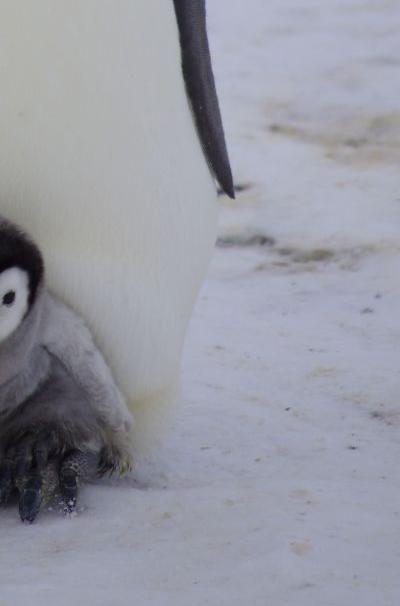Emperor Penguin: (0, 0, 287, 501)
